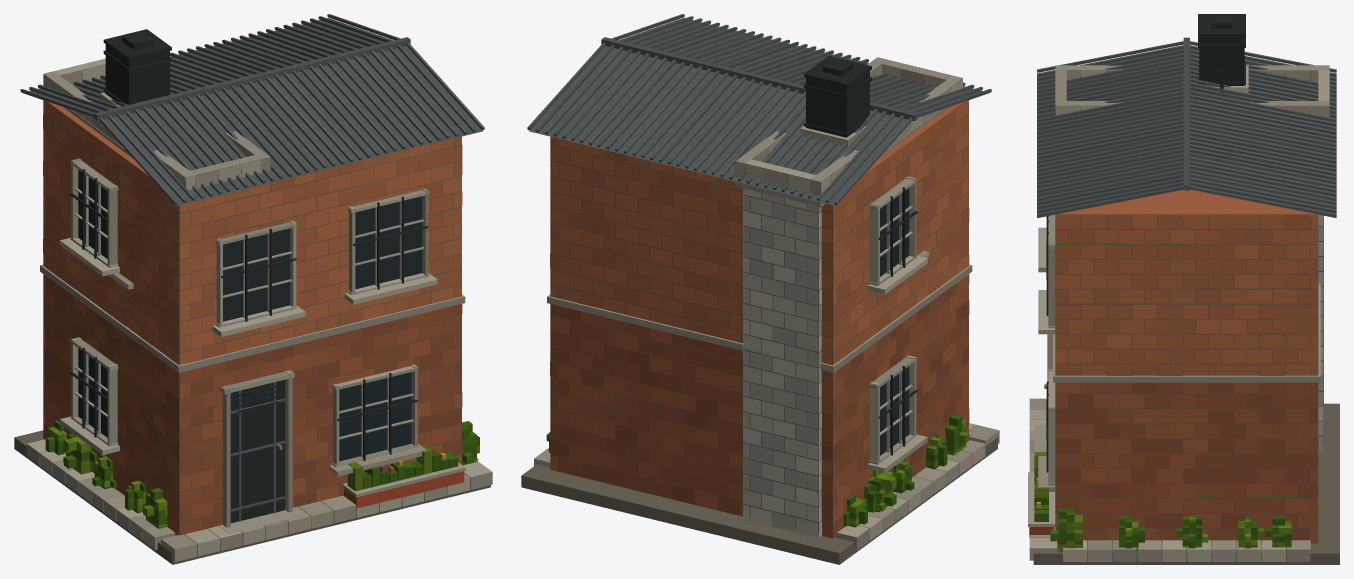
File: SM_Mapa_073.fbx
The picture shows the model from 3 angles, left to right: view 1: azimuth 30°, elevation 25°; view 2: azimuth 150°, elevation 25°; view 3: azimuth 270°, elevation 25°; orthographic projection. The views are drawn at different scales.
Visible parts, largest first — view 1: SM_Mapa_073; view 2: SM_Mapa_073; view 3: SM_Mapa_073.
Boxes of the visible parts, x1,y1,x2,y2 form: SM_Mapa_073: [14, 14, 492, 564]; SM_Mapa_073: [521, 14, 999, 564]; SM_Mapa_073: [1028, 14, 1339, 564].
Bounding box in the file's own units: 8 × 6.84 × 10.3.
